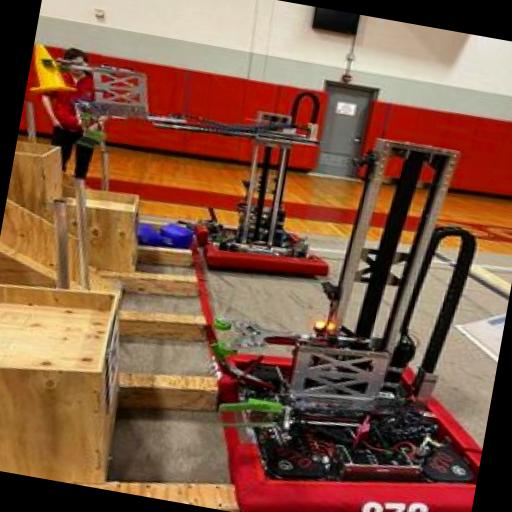robot: (191, 96, 512, 512), (58, 43, 358, 302)
